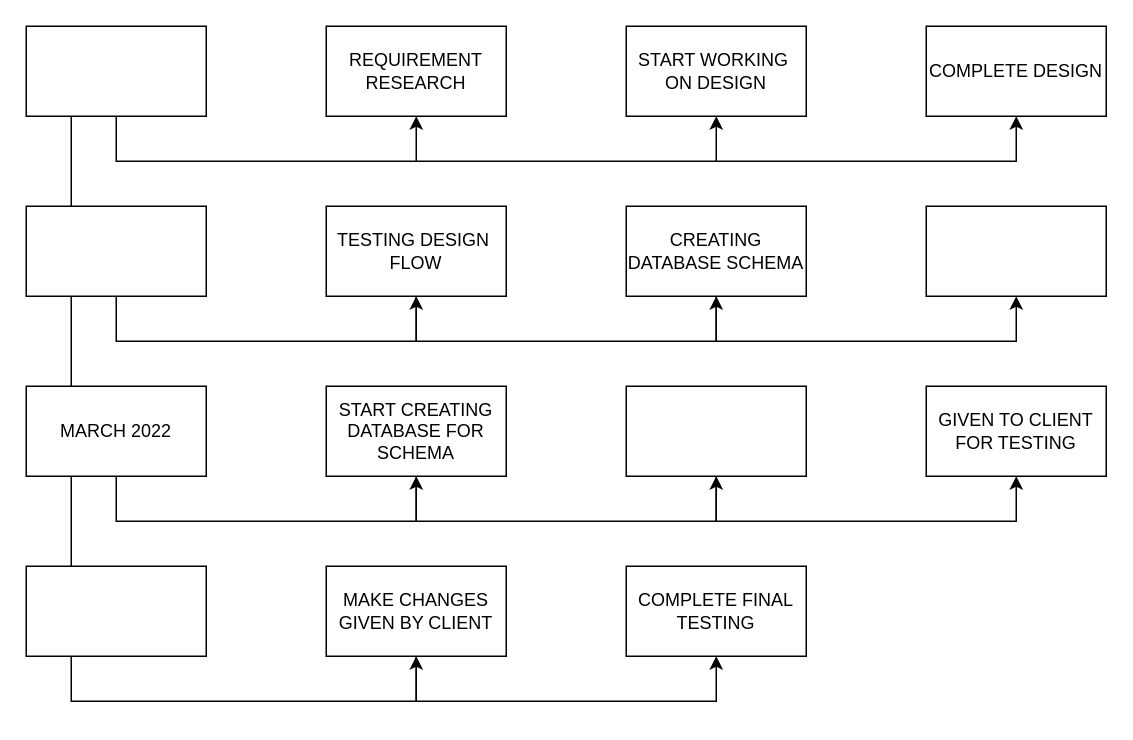
The diagram is 1133 pixels wide and 740 high, and some of its shapes have lost their labels. The shapes that lost their labels are listed below. From the top down, each one's centre as x and y in pixels, then its label:
point (115, 70): JAN 2022
point (115, 250): FEB 2022
point (1015, 250): MAKE SOME CHANGES IN DESIGN
point (715, 430): IMPLEMENT-DATABASE INTO FRONT-END
point (115, 610): APRIL 2022
